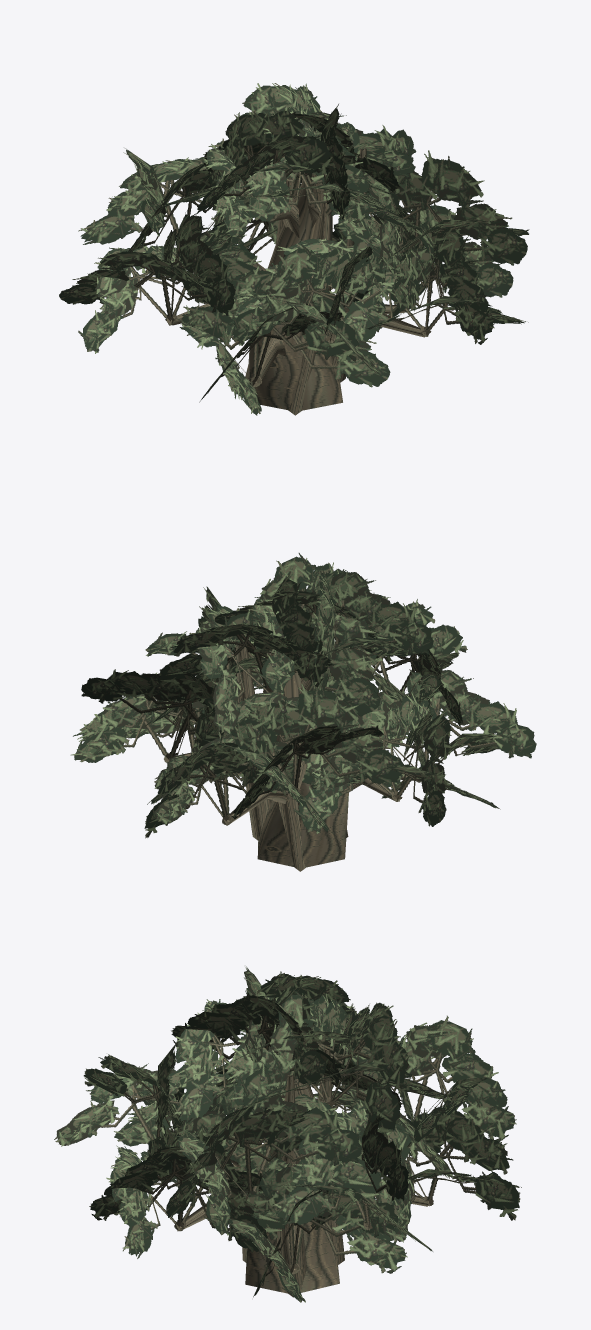
File: heath-juniper-near.glb
3 renders of one model, top to bottom at view 1: azimuth 30°, elevation 25°; view 2: azimuth 150°, elevation 25°; view 3: azimuth 270°, elevation 25°, orthographic. The views are drawn at different scales.
Visible parts, largest first — view 1: Heath juniper near v3 runtime; view 2: Heath juniper near v3 runtime; view 3: Heath juniper near v3 runtime.
Boxes of the visible parts, x1=… form: Heath juniper near v3 runtime: x1=59, y1=83, x2=529, y2=415; Heath juniper near v3 runtime: x1=70, y1=553, x2=536, y2=871; Heath juniper near v3 runtime: x1=54, y1=966, x2=521, y2=1302.
Bounding box in the file's own units: 4.57 × 3.11 × 4.47.
Materials: 1 (1 with a texture image).
